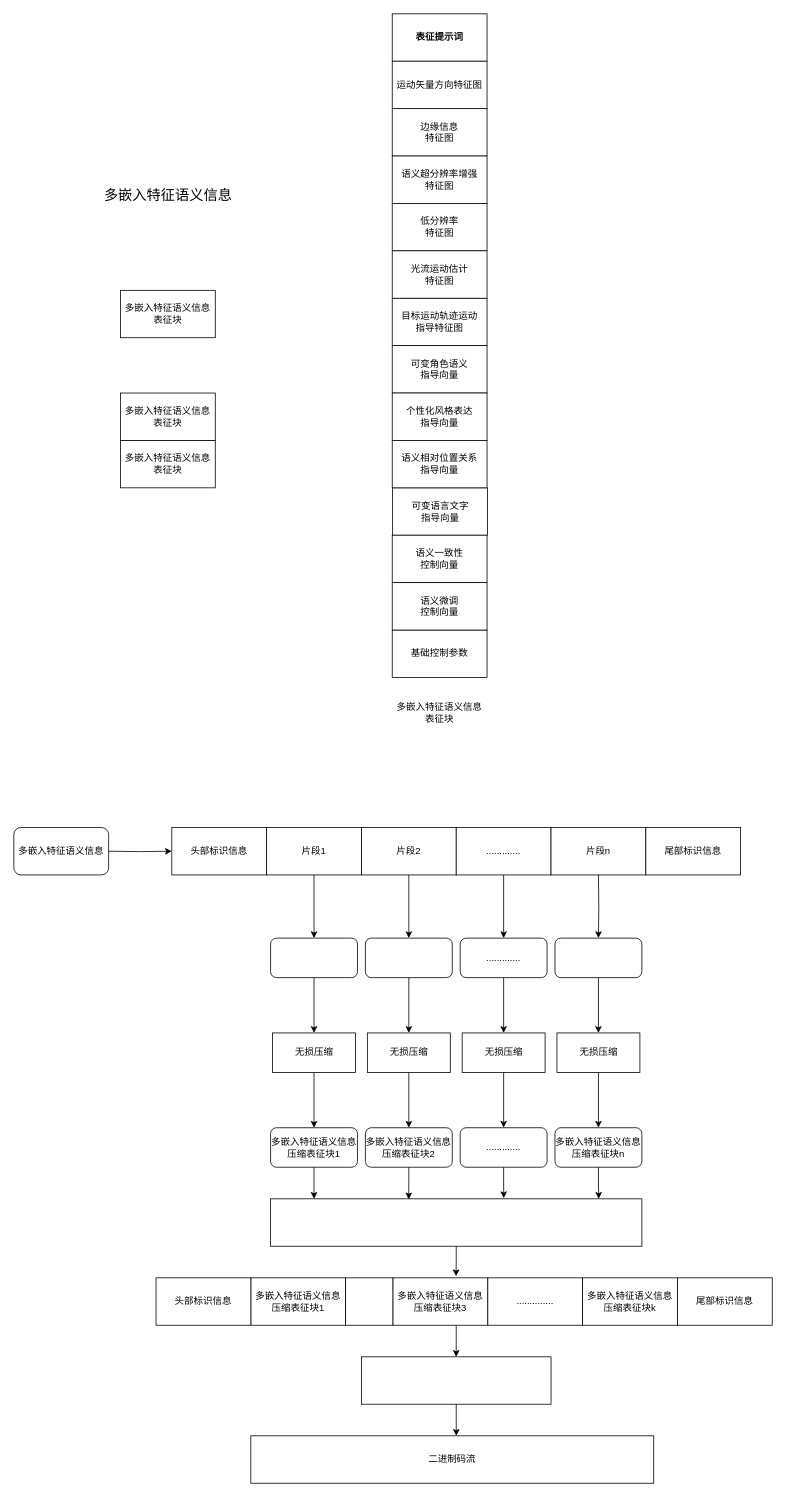
The diagram is 786 pixels wide and 1497 high, and some of its shapes have lost their labels. The box of each missing label's shape, as (x1, y1, x2, y2) in pixels:
多嵌入特征语义信息压缩表征块相似对比映射模型: (270, 1198, 642, 1246)
多嵌入特征语义信息表征块1: (270, 937, 357, 978)
多嵌入特征语义信息表征块2: (365, 937, 452, 978)
多嵌入特征语义信息表征块n: (554, 937, 642, 978)
映射块1: (345, 1277, 393, 1325)
熵编码: (361, 1356, 551, 1404)
